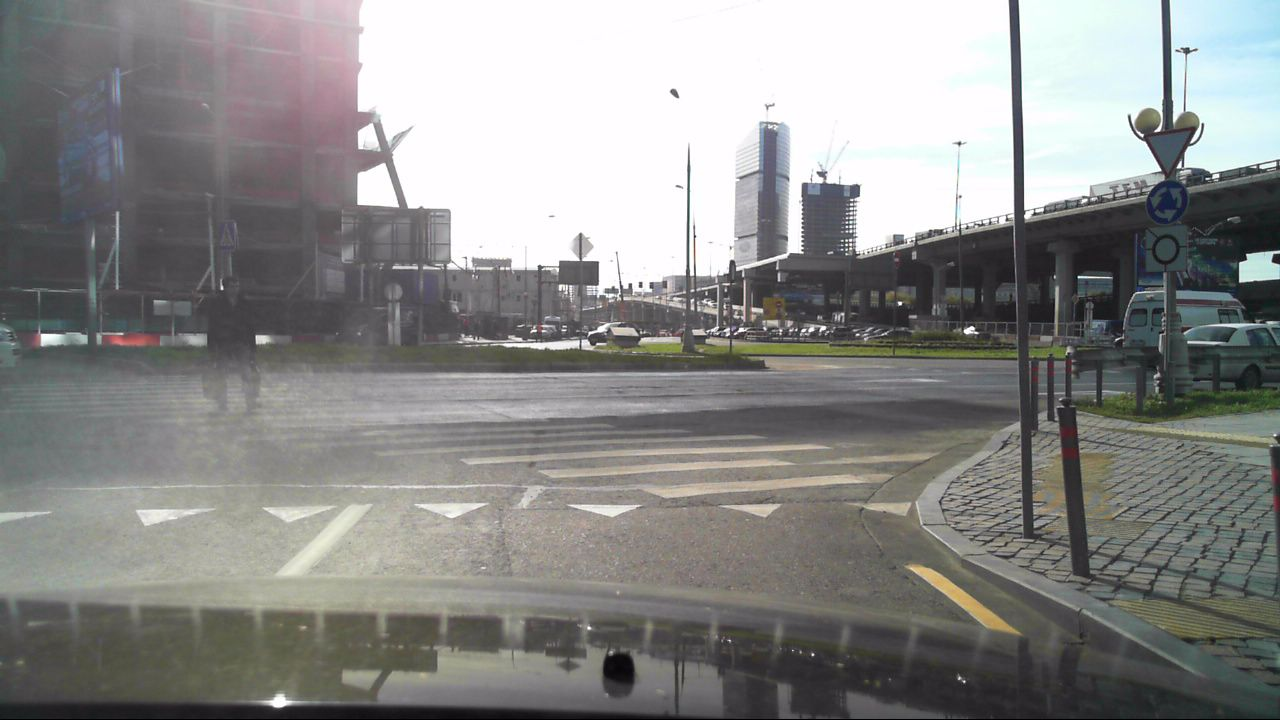Round-About: (1146, 176, 1190, 225)
